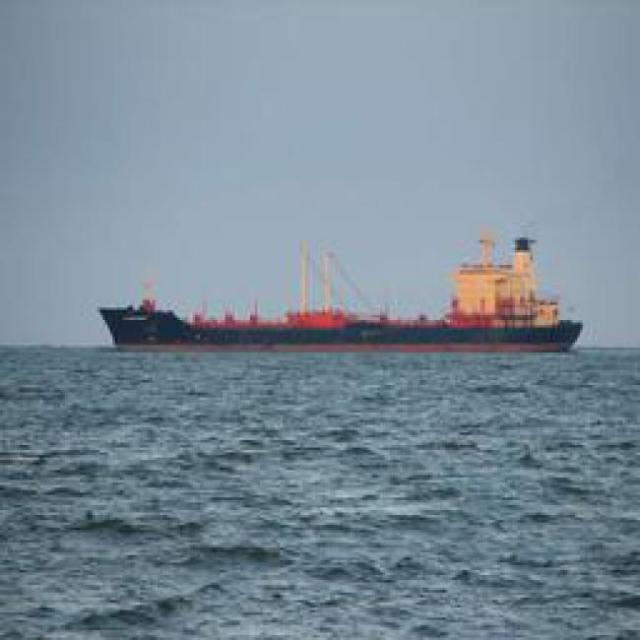boat: (62, 252, 591, 361)
